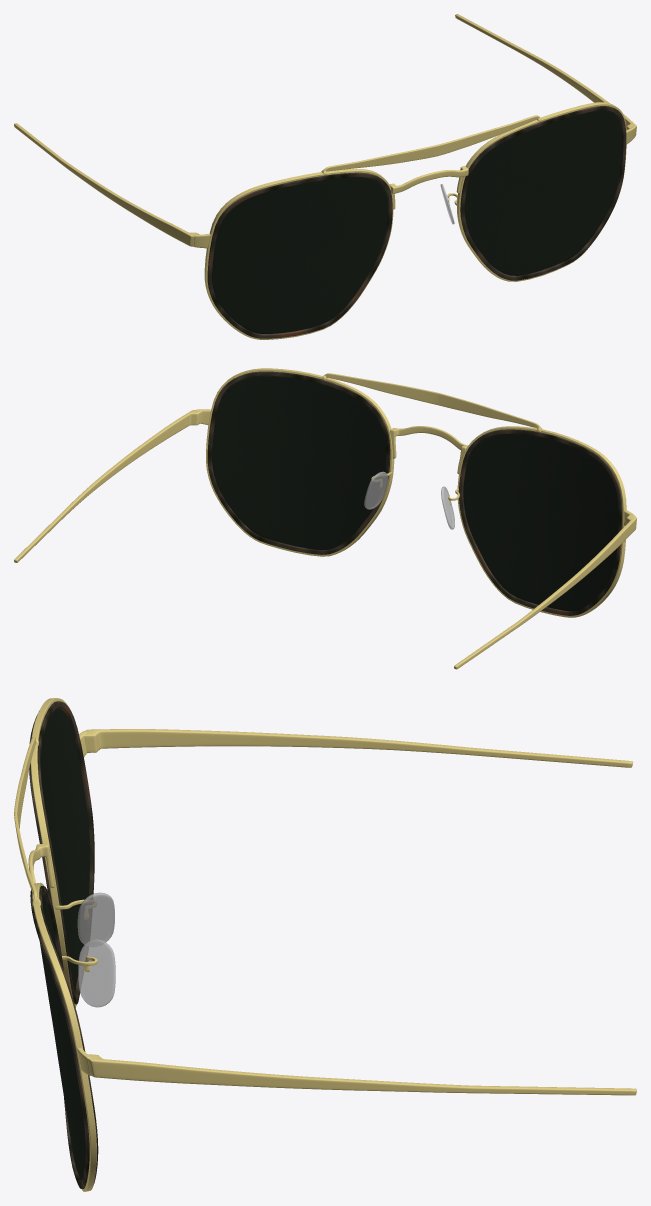
The model's file is MARSHALSOL_app_GLB.glb.
3 renders of one model, top to bottom at view 1: azimuth 30°, elevation 25°; view 2: azimuth 150°, elevation 25°; view 3: azimuth 270°, elevation 25°, orthographic. The views are drawn at different scales.
Visible parts, largest first — view 1: Lentes, armacao; view 2: Lentes, armacao, Pontes; view 3: armacao, Lentes, Pontes.
Part boxes in pixels (box(x1,y1,x2,y2)): Lentes: box(212, 110, 621, 333); armacao: box(14, 14, 636, 339); Lentes: box(212, 376, 618, 611); armacao: box(14, 368, 636, 669); Pontes: box(364, 471, 454, 529); armacao: box(14, 698, 636, 1191); Lentes: box(40, 708, 89, 1180); Pontes: box(77, 892, 115, 1007).
Size of the model in its own units: 0.1504 by 0.0543 by 0.1147.
Materials: 4 (4 with a texture image).
